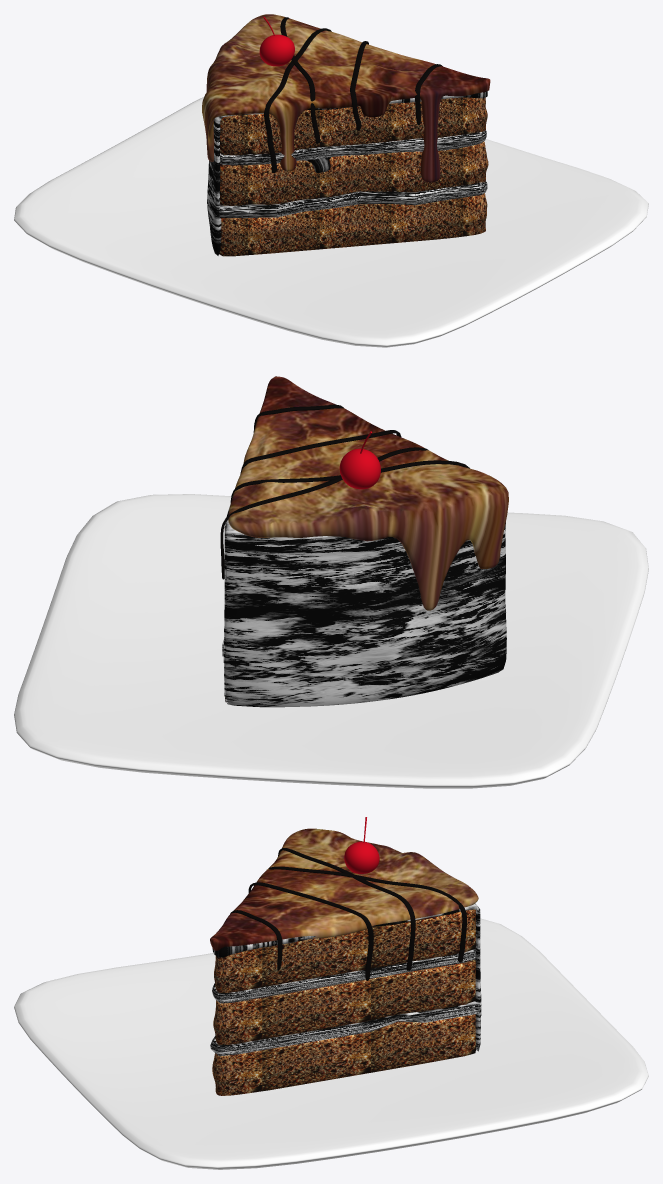
Rendered from Cake.dae.
3 views of the same model, one above another, from view 1: azimuth 30°, elevation 25°; view 2: azimuth 150°, elevation 25°; view 3: azimuth 270°, elevation 25° (orthographic). The views are drawn at different scales.
Visible parts, largest first — view 1: Box001, mainNode, Cylinder001, Cylinder003, Cylinder005, Cylinder002, Cylinder004, Cylinder006, Sphere001, Plane003, Plane004, Plane002; view 2: Box001, Cylinder006, mainNode, Sphere001, Plane004, Plane003, Plane002; view 3: Box001, mainNode, Cylinder003, Cylinder001, Cylinder005, Cylinder002, Cylinder004, Cylinder006, Plane004, Sphere001, Plane003, Plane002.
Boxes of the visible parts, x1,y1,x2,y2 form: Box001: [14, 97, 648, 347]; mainNode: [202, 14, 490, 182]; Cylinder001: [219, 193, 487, 256]; Cylinder003: [220, 141, 488, 205]; Cylinder005: [220, 97, 487, 155]; Cylinder002: [219, 181, 487, 218]; Cylinder004: [220, 131, 486, 172]; Cylinder006: [207, 91, 487, 255]; Sphere001: [259, 34, 294, 66]; Plane003: [264, 28, 331, 172]; Plane004: [280, 17, 320, 143]; Plane002: [350, 41, 368, 130]; Box001: [14, 494, 648, 788]; Cylinder006: [223, 504, 506, 707]; mainNode: [228, 376, 508, 610]; Sphere001: [339, 448, 380, 489]; Plane004: [220, 447, 428, 579]; Plane003: [230, 460, 469, 502]; Plane002: [240, 430, 401, 473]; Box001: [14, 918, 648, 1169]; mainNode: [210, 828, 478, 950]; Cylinder003: [213, 959, 475, 1044]; Cylinder001: [212, 1014, 475, 1095]; Cylinder005: [214, 909, 475, 992]; Cylinder002: [210, 1001, 479, 1056]; Cylinder004: [212, 949, 475, 1003]; Cylinder006: [212, 903, 481, 1051]; Plane004: [268, 866, 466, 962]; Sphere001: [344, 841, 379, 873]; Plane003: [278, 848, 415, 970]; Plane002: [248, 882, 373, 980].
Size of the model in its own units: 0.1986 by 0.2126 by 0.0804.
Materials: 6 (3 with a texture image).
